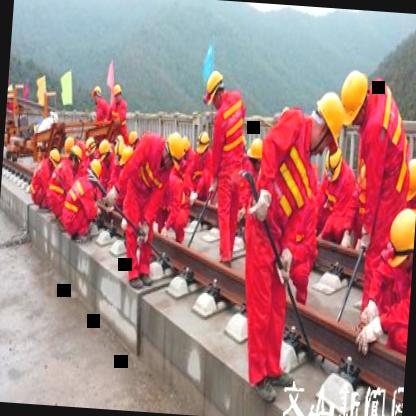helmet: (306, 89, 348, 156), (336, 66, 372, 130), (385, 205, 416, 260), (160, 132, 190, 175), (321, 140, 347, 189), (203, 64, 228, 108), (245, 132, 270, 174), (400, 155, 416, 210), (194, 128, 212, 166), (64, 143, 84, 177), (84, 157, 105, 185), (43, 144, 62, 174), (110, 80, 127, 108), (96, 137, 113, 165), (87, 84, 105, 110), (126, 126, 141, 152)
